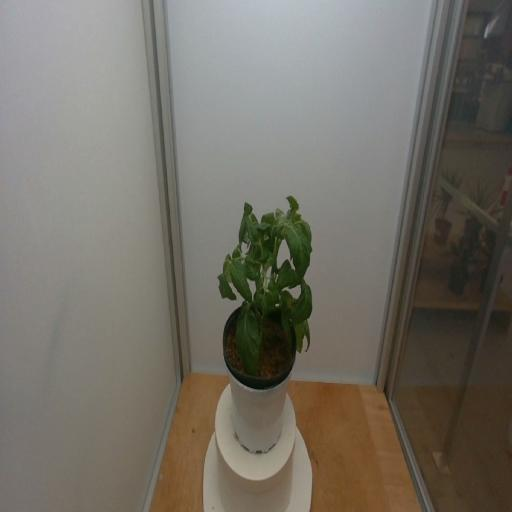Tomato-Leaves-Cupboard-: (278, 221, 312, 280), (239, 309, 260, 379), (228, 260, 252, 304), (290, 275, 312, 322), (292, 312, 312, 358), (274, 257, 304, 287), (216, 273, 238, 302), (224, 250, 242, 284), (255, 292, 274, 319), (246, 213, 261, 246), (299, 216, 313, 244), (244, 256, 260, 280), (281, 302, 291, 337), (268, 276, 280, 304), (286, 194, 302, 214), (239, 212, 248, 246), (231, 242, 243, 258), (242, 200, 253, 217), (258, 223, 272, 236), (282, 287, 293, 303), (261, 212, 274, 225), (256, 276, 264, 292), (274, 208, 284, 217), (239, 298, 247, 308), (251, 212, 258, 223)
